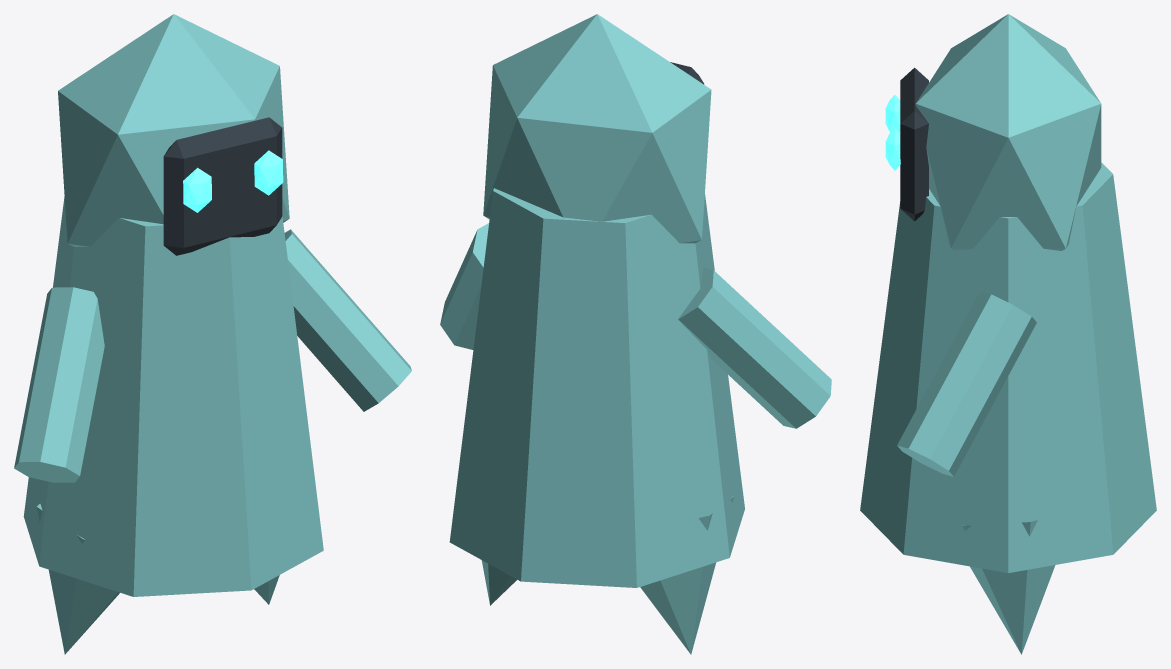
The model's file is ghost.glb.
The picture shows the model from 3 angles, left to right: view 1: azimuth 30°, elevation 25°; view 2: azimuth 150°, elevation 25°; view 3: azimuth 270°, elevation 25°; orthographic projection. The views are drawn at different scales.
Parts seen in each view (by area): view 1: ghost; view 2: ghost; view 3: ghost.
Boxes of the visible parts, box(x1,y1,x2,y2) form: ghost: box(14, 14, 411, 654); ghost: box(440, 14, 831, 654); ghost: box(860, 14, 1156, 654).
Size of the model in its own units: 0.9905 by 1.5 by 0.68.
